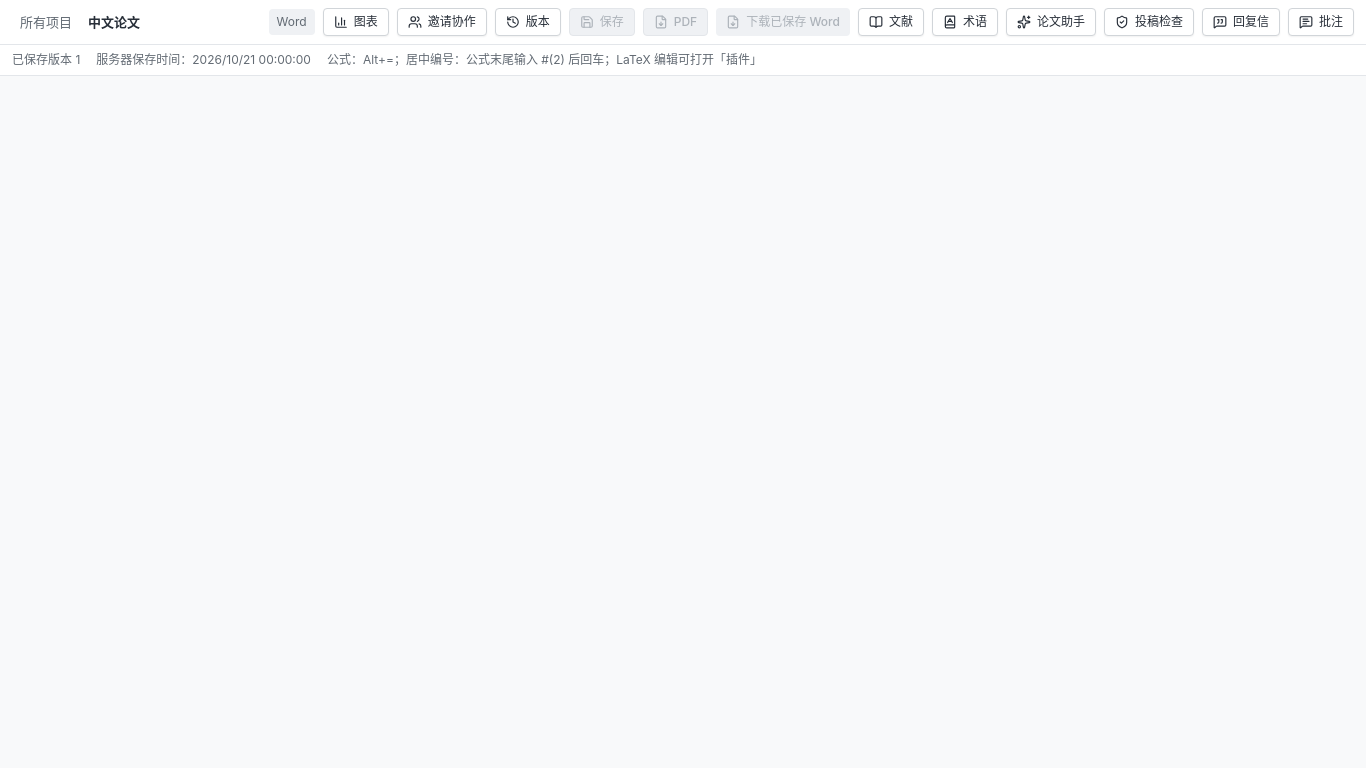
Word 工作台 › 服务端禁止下载时主下载、历史下载和故障回退下载全部关闭
Expected: the button with test id "word-download" is disabled, 716,8 -> 850,36
Click the button "版本": (528, 22) 495,8 -> 561,36
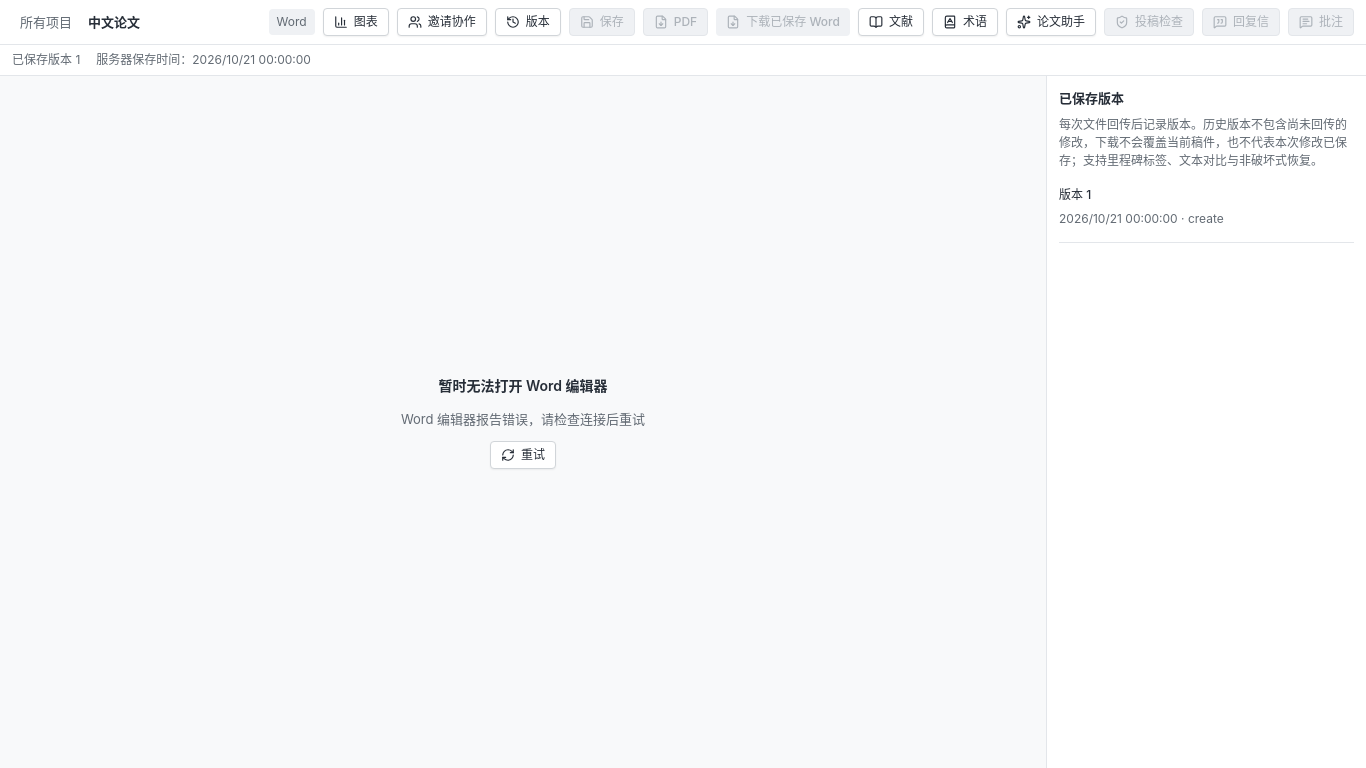
Expected: the element named "Word 已保存版本" is shown, 1046,76 -> 1365,767
